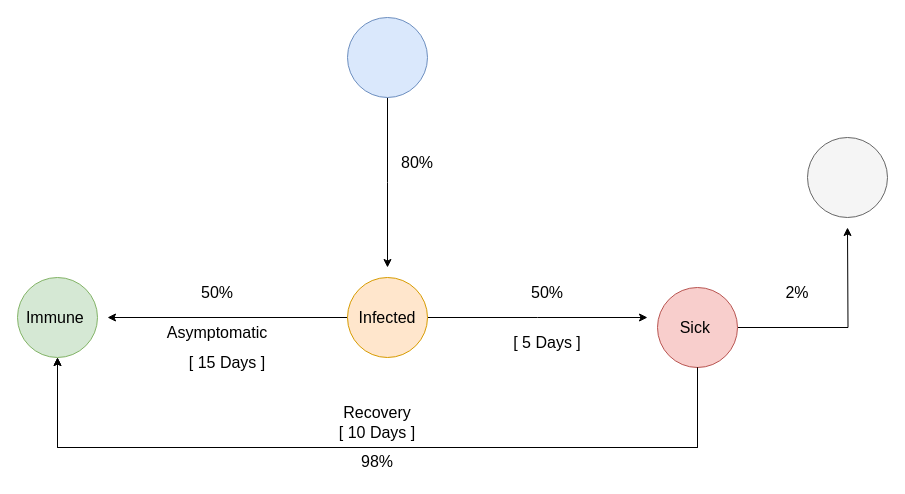
Some shapes in this 905 by 494 pixel diagram are drawn without their labels. The shapes that lost their labels are listed below. From the top down, each one's centre as x and y in pixels, then its label:
At [387,57]: "Unexposed".
At [847,177]: "Dead".
